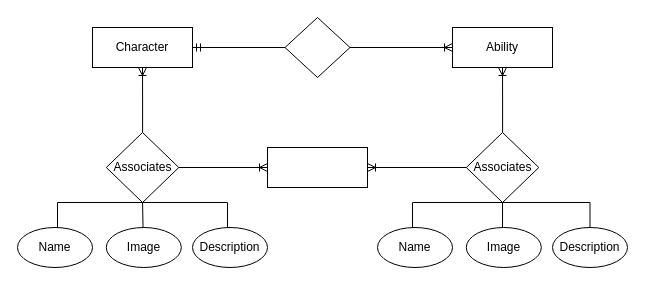
Some shapes in this 645 by 285 pixel diagram are drawn without their labels. The shapes that lost their labels are listed below. From the top down, each one's centre as x and y in pixels, then its label:
At (317,47): "Possess".
At (317,167): "Theme".
